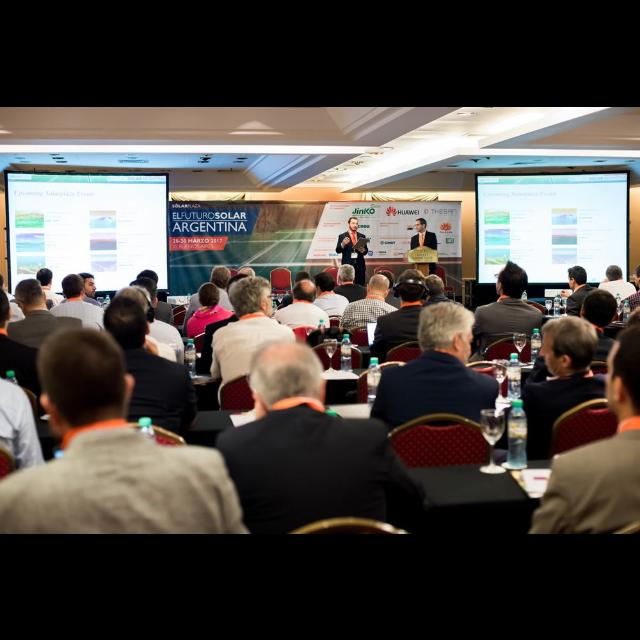head: (37, 327, 139, 438), (250, 339, 328, 415), (417, 300, 475, 366), (538, 316, 600, 376), (541, 315, 601, 375), (102, 296, 152, 350), (228, 277, 276, 317), (580, 289, 620, 327), (16, 278, 48, 316), (496, 265, 528, 299), (397, 268, 427, 304), (292, 280, 318, 306), (367, 274, 391, 298), (199, 282, 221, 308), (137, 269, 159, 295), (76, 273, 98, 299), (210, 265, 232, 289), (78, 272, 98, 298), (314, 272, 334, 298), (424, 275, 446, 297), (569, 266, 589, 290), (336, 264, 356, 286), (605, 264, 623, 282), (414, 218, 428, 232), (348, 216, 359, 232)
person: (207, 273, 306, 455), (538, 287, 630, 451), (1, 276, 97, 430), (367, 266, 455, 416), (468, 258, 548, 414), (336, 270, 406, 392), (110, 268, 178, 392), (45, 272, 115, 390), (270, 276, 334, 390), (180, 264, 246, 370), (412, 272, 476, 378), (186, 280, 248, 388), (54, 269, 112, 373), (548, 262, 606, 346), (324, 260, 374, 352), (306, 271, 354, 359), (334, 214, 372, 306), (408, 217, 442, 303)
